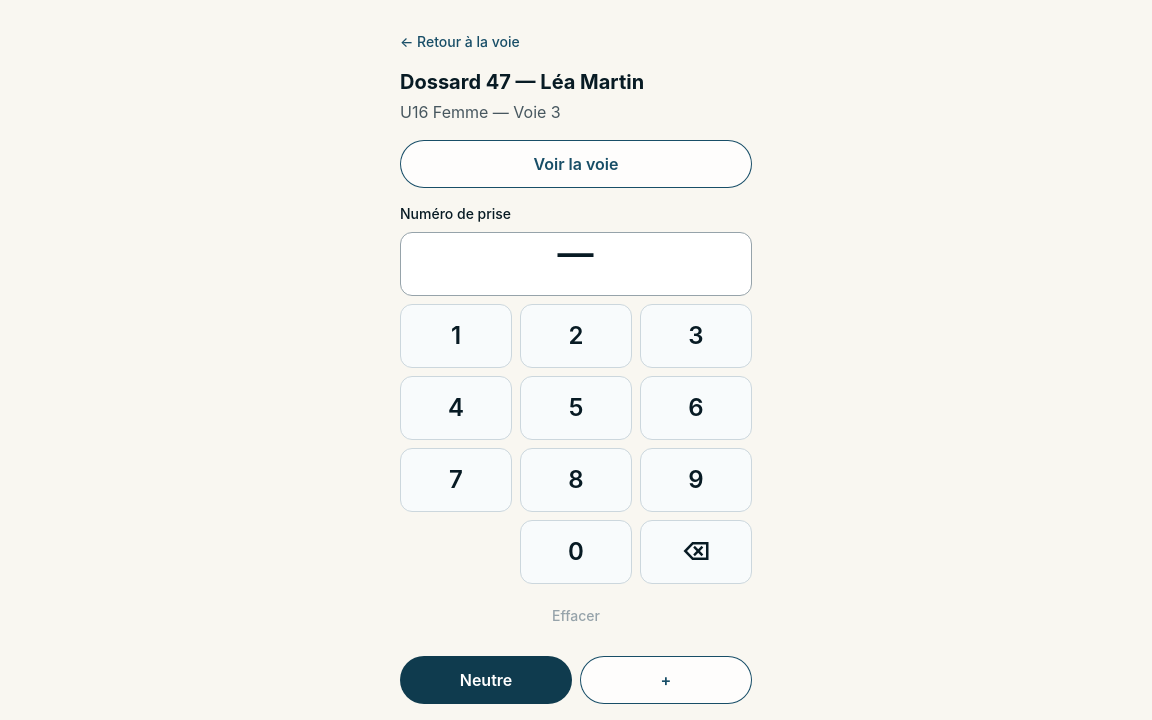
Test: JudgeAscentEntry — voie annotée (ADR-066) › dit que la photo n’est pas encore là quand elle n’a pas été téléchargée, et la saisie reste possible
This screenshot has width=1152, height=720.
Click the button "Voir la voie": (576,164) left=400, top=140, right=752, bottom=188
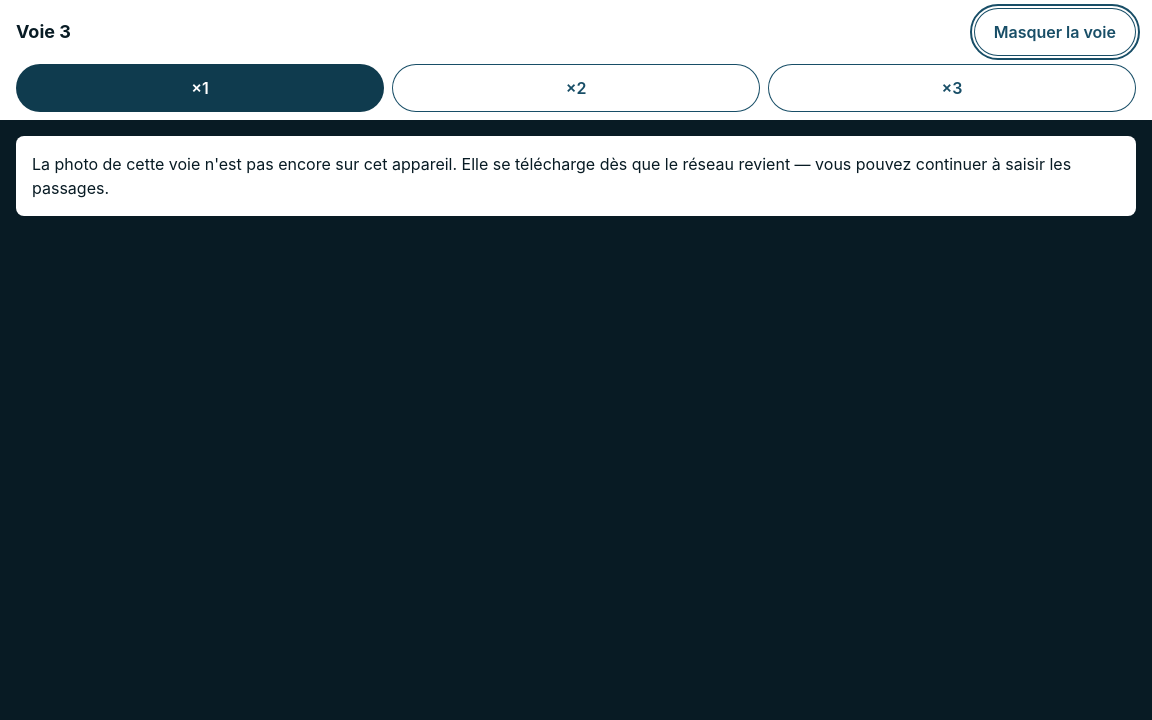
Expected: the dialog with test id "route-photo-panel" shows "pas encore sur cet appareil", left=32, top=154, right=1071, bottom=198
